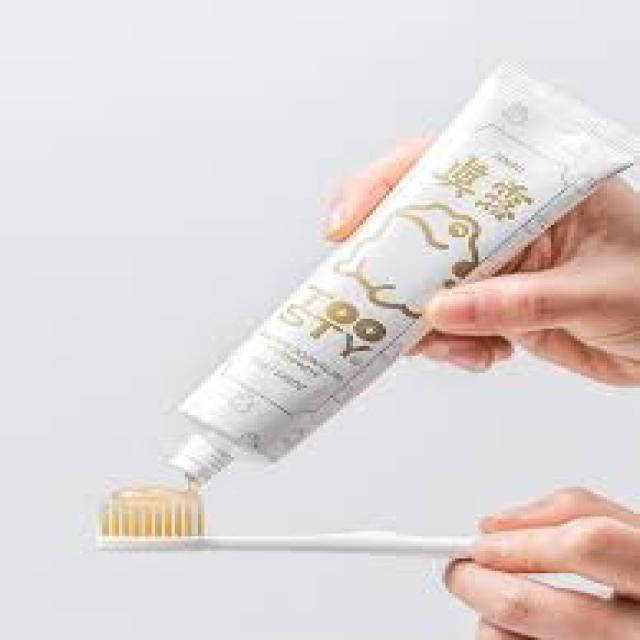toothpaste: (135, 69, 640, 470)
